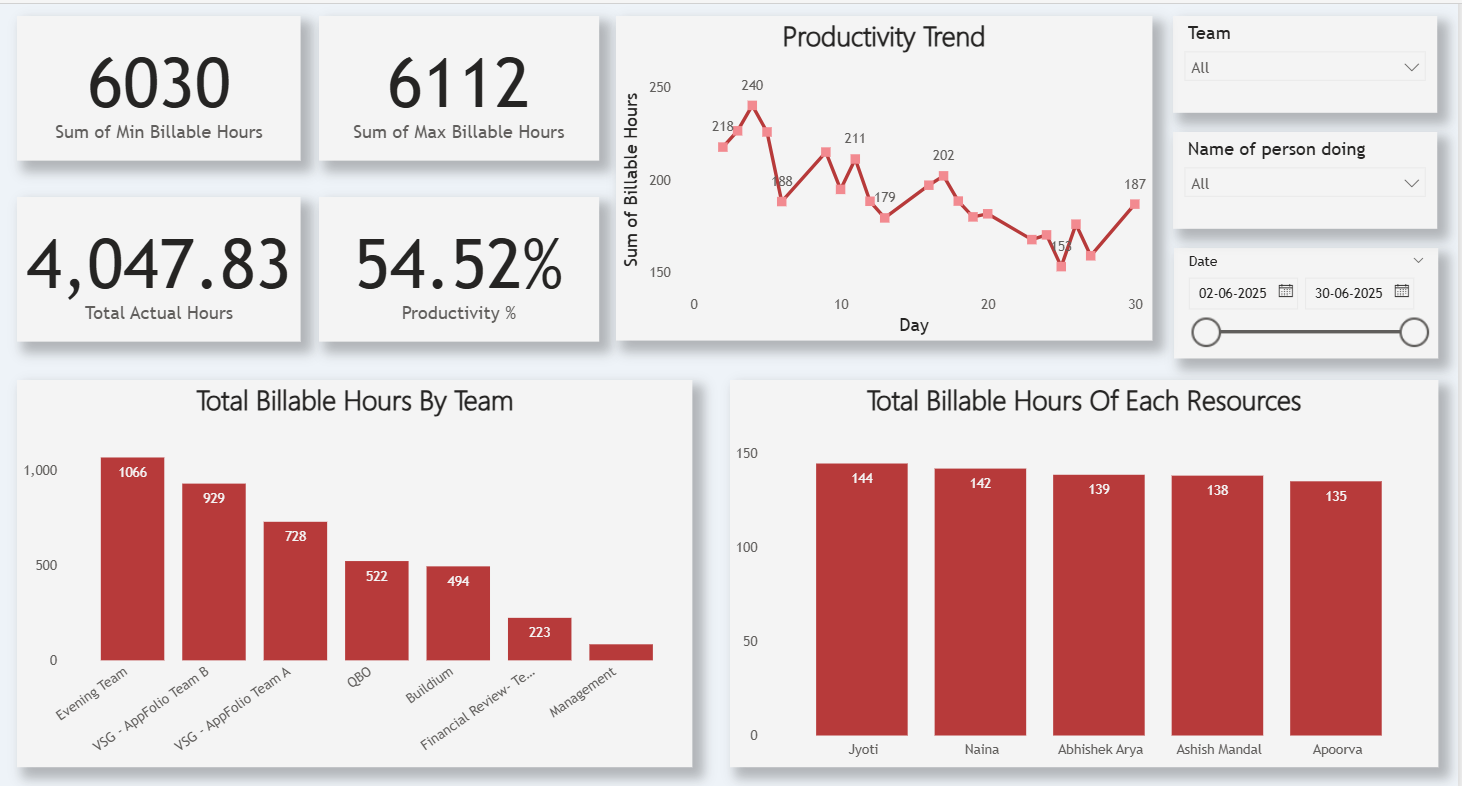

The dashboard page shown, as its layout file describes it:
{"tool":"powerbi","page":{"name":"Page 1","canvas":[1280,720],"ordinal":0},"visuals":[{"type":"card","fields":{"Values":["Sum(Sheet1.Min Billable Hours)"]},"box":[15.1,39.7,249.5,126.6],"z":0},{"type":"card","fields":{"Values":["June Productivity sheet.Total Actual Hours"]},"box":[15.1,198.4,249.5,126.6],"z":1000},{"type":"card","fields":{"Values":["Sum(Sheet1.Max Billable Hours)"]},"box":[279.7,39.7,245.7,126.6],"z":2000},{"type":"card","fields":{"Values":["June Productivity sheet.Productivity %"]},"box":[279.7,198.4,245.7,126.6],"z":3000},{"type":"slicer","fields":{"Values":["Sheet1.Team"]},"box":[1029.9,39.7,232.4,85],"z":4000},{"type":"slicer","fields":{"Values":["June Productivity sheet.Date"]},"box":[1030.7,243.4,232.2,97],"z":5000},{"type":"slicer","fields":{"Values":["June Productivity sheet.Name of person doing"]},"box":[1029.9,141.7,232.4,85],"z":6000},{"type":"lineChart","title":"Productivity Trend","fields":{"Category":["June Productivity sheet.Date.Variation.Date Hierarchy.Day"],"Y":["Sum(June Productivity sheet.Billable Hours)"]},"box":[540.5,39.7,470.6,285.4],"z":7000},{"type":"columnChart","title":"Total Billable Hours Of Each Resources","fields":{"Category":["June Productivity sheet.Name of person doing"],"Y":["Sum(June Productivity sheet.Billable Hours)"]},"box":[640.6,359.1,621.7,340.2],"z":8000},{"type":"columnChart","title":"Total Billable Hours By Team","fields":{"Category":["June Productivity sheet.Teams"],"Y":["Sum(June Productivity sheet.Billable Hours)"]},"box":[15.1,359.1,593.4,340.2],"z":9000}]}

Visuals, with their boxes on the page's 1280x720 design canvas (x1, y1, x2, y2). These are canvas units, not pixel positions in the 1462x786 screenshot, which may show the page scaled, cropped or inside an application window:
card - Sum(Sheet1.Min Billable Hours): rect(15, 40, 265, 166)
card - June Productivity sheet.Total Actual Hours: rect(15, 198, 265, 325)
card - Sum(Sheet1.Max Billable Hours): rect(280, 40, 525, 166)
card - June Productivity sheet.Productivity %: rect(280, 198, 525, 325)
slicer - Sheet1.Team: rect(1030, 40, 1262, 125)
slicer - June Productivity sheet.Date: rect(1031, 243, 1263, 340)
slicer - June Productivity sheet.Name of person doing: rect(1030, 142, 1262, 227)
"Productivity Trend" lineChart: rect(540, 40, 1011, 325)
"Total Billable Hours Of Each Resources" columnChart: rect(641, 359, 1262, 699)
"Total Billable Hours By Team" columnChart: rect(15, 359, 608, 699)
